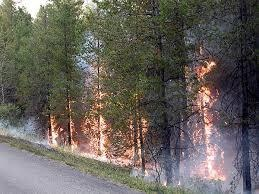fire: (167, 55, 226, 179), (46, 74, 115, 157)
